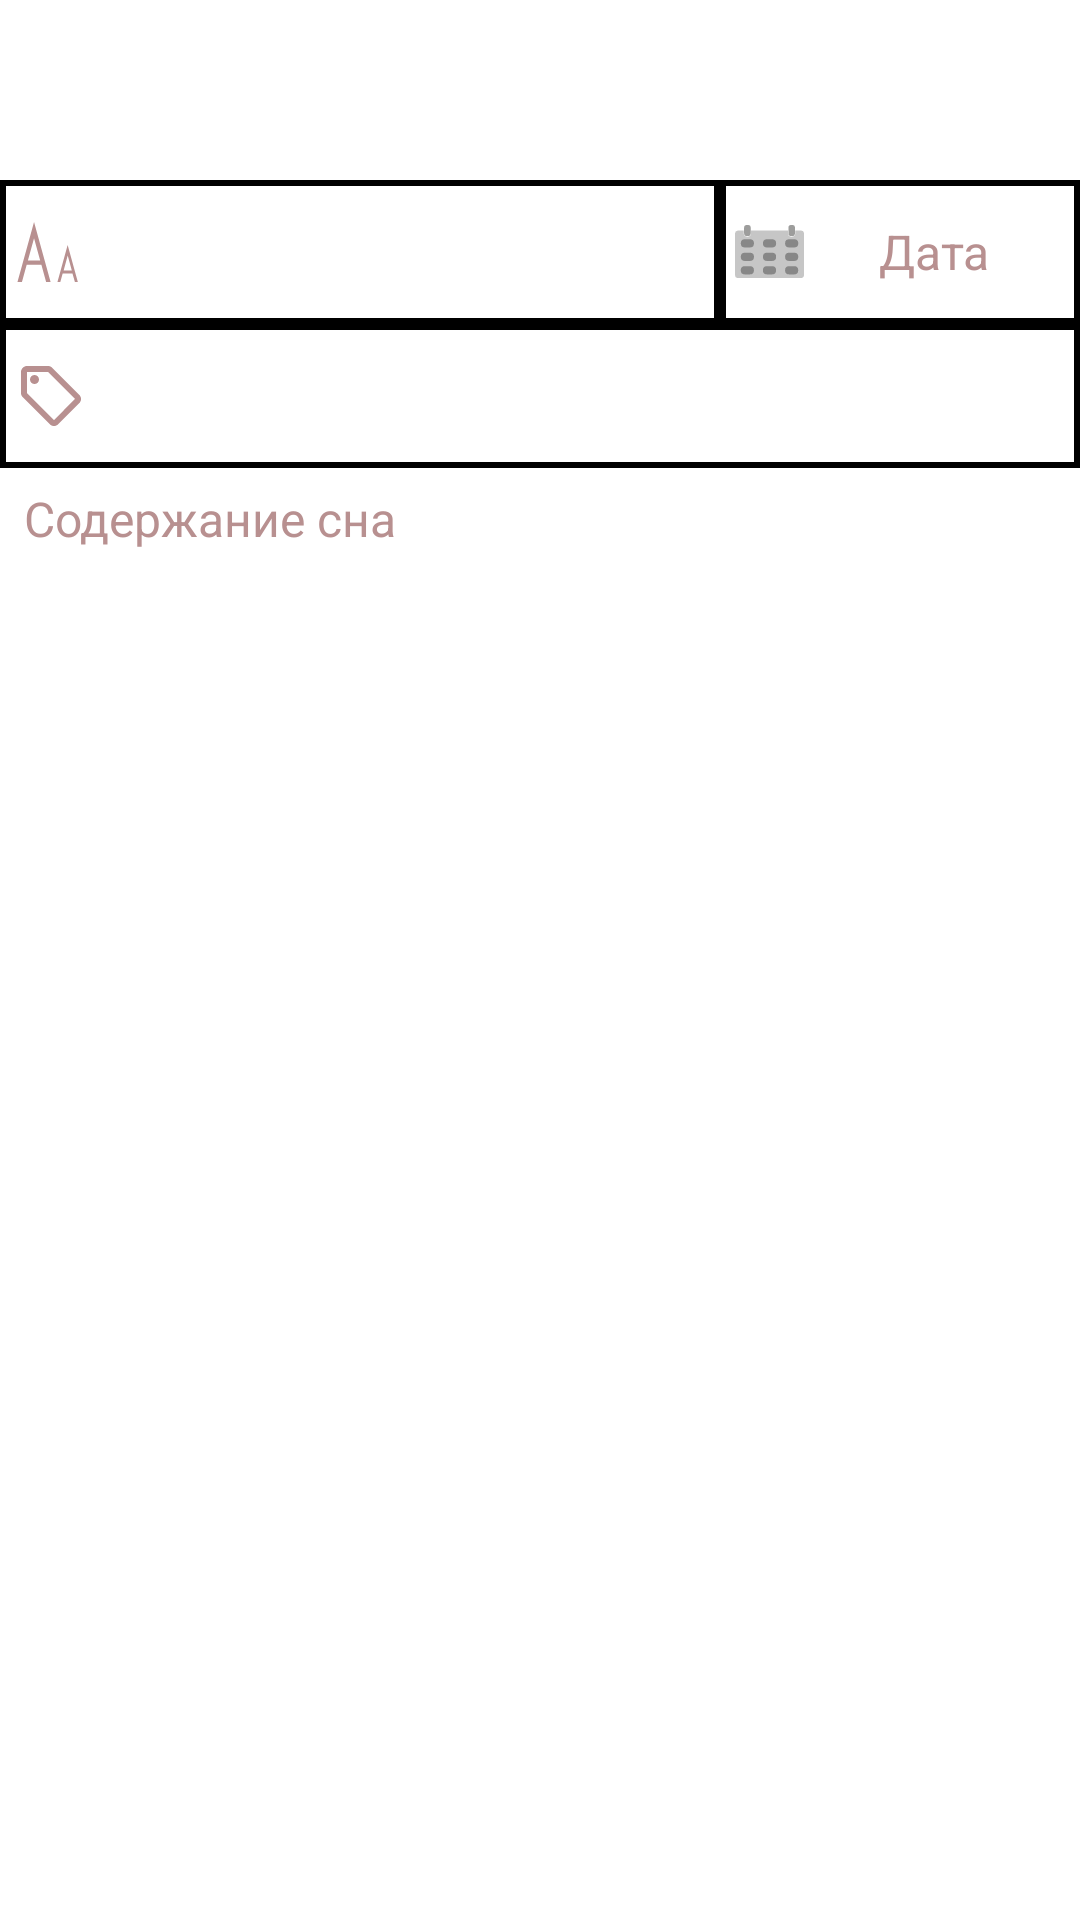

Where icons sit on this 1080×1920 app screen, as bbox=[x1, y1, x2, y2]:
calendar: bbox=[735, 225, 804, 278]
label: bbox=[21, 366, 81, 426]
